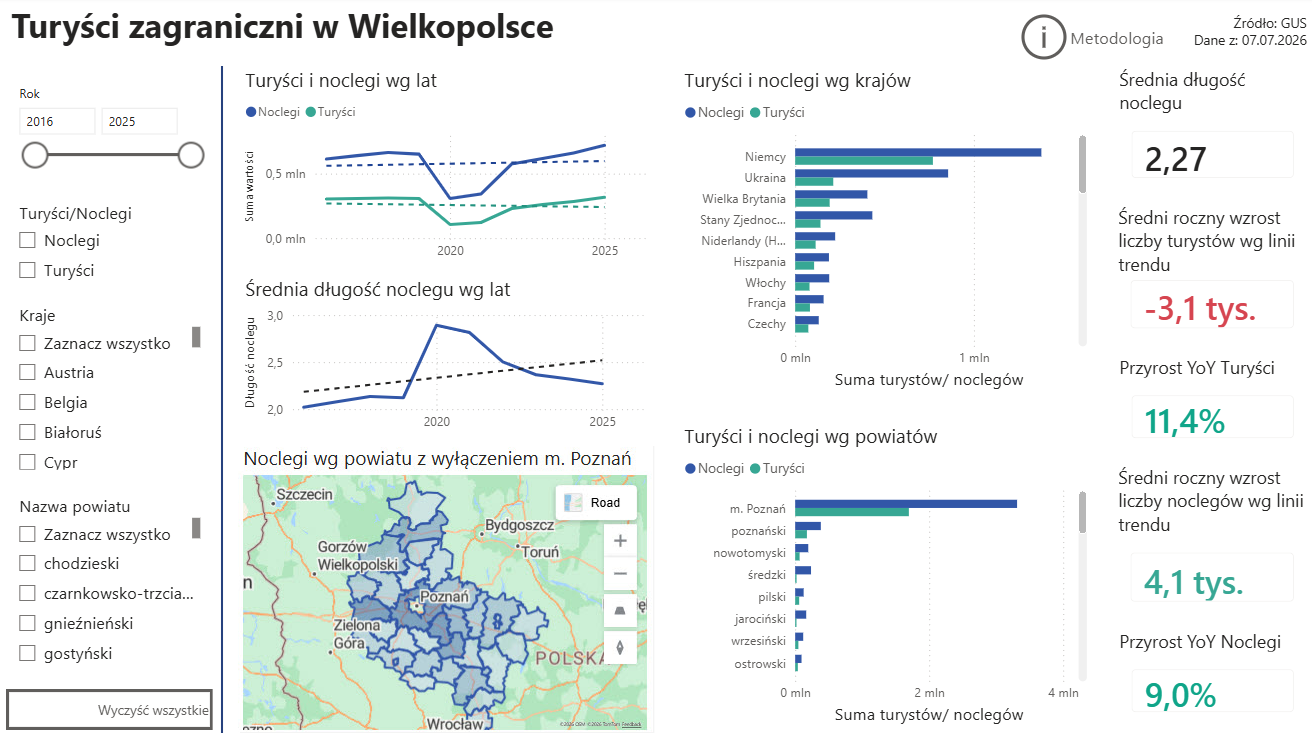

This screenshot's page, from the dashboard's own definition file:
{"tool":"powerbi","page":{"name":"Ogólny","canvas":[1280,720],"ordinal":0},"visuals":[{"type":"lineChart","title":"Turyści i noclegi wg lat","fields":{"Category":["DANE_Wielkopolska.Rok"],"Series":["DANE_Wielkopolska.Turyści/Noclegi - etykieta"],"Y":["Sum(DANE_Wielkopolska.Wartosc)"]},"box":[237.3,67.1,402.7,197.4],"z":0},{"type":"clusteredBarChart","title":"Turyści i noclegi wg krajów","fields":{"Category":["DANE_Wielkopolska.Kraje"],"Series":["DANE_Wielkopolska.Turyści/Noclegi - etykieta"],"Y":["Sum(DANE_Wielkopolska.Wartosc)"]},"box":[664.3,67.1,401.7,320],"z":1000},{"type":"slicer","fields":{"Values":["DANE_Wielkopolska.Rok"]},"box":[9.7,79.8,201.3,99.2],"z":2000},{"type":"shape","box":[211.1,67.1,17.5,652.6],"z":3000},{"type":"slicer","fields":{"Values":["DANE_Wielkopolska.Kraje"]},"box":[9.7,292.8,193.6,172.2],"z":4000},{"type":"clusteredBarChart","title":"Turyści i noclegi wg powiatów","fields":{"Category":["DANE_Wielkopolska.Nazwa powiatu"],"Series":["DANE_Wielkopolska.Turyści/Noclegi - etykieta"],"Y":["Sum(DANE_Wielkopolska.Wartosc)"]},"box":[664.3,413.4,401.7,299.6],"z":5000},{"type":"slicer","fields":{"Values":["DANE_Wielkopolska.Nazwa powiatu"]},"box":[9.7,478.5,193.6,180.9],"z":6000},{"type":"textbox","box":[9.7,0,792.7,59.3],"z":7000},{"type":"slicer","fields":{"Values":["DANE_Wielkopolska.Turyści/Noclegi - etykieta"]},"box":[9.7,193.6,193.6,99.2],"z":8000},{"type":"actionButton","box":[9.7,673.1,201.3,39.9],"z":9000},{"type":"lineChart","title":"Średnia długość noclegu wg lat","fields":{"Category":["DANE_Wielkopolska.Rok"],"Y":["DANE_Wielkopolska.Srednia dlugosc noclegu"]},"box":[237.3,270.4,402.7,160.5],"z":10000},{"type":"cardVisual","title":"Średnia długość noclegu","fields":{"Data":["DANE_Wielkopolska.Srednia dlugosc noclegu"]},"box":[1087.4,67.1,192.6,126.4],"z":11000},{"type":"cardVisual","title":"Przyrost YoY Turyści","fields":{"Data":["DANE_Wielkopolska.Przyrost_YoY"]},"box":[1087.4,347.2,192.6,99.2],"z":13000},{"type":"cardVisual","title":"Przyrost YoY Noclegi","fields":{"Data":["DANE_Wielkopolska.Przyrost_YoY"]},"box":[1087.4,613.7,192.6,99.2],"z":14000},{"type":"textbox","box":[1122.1,10.7,157.6,56.4],"z":15000},{"type":"azureMap","title":"Noclegi wg powiatu z wyłączeniem m. Poznań","fields":{"Category":["DANE_Wielkopolska.wojewodztwo Hierarchy.wojewodztwo","DANE_Wielkopolska.wojewodztwo Hierarchy.Powiat nazwa"],"Size":["Sum(DANE_Wielkopolska.Wartosc)"]},"box":[237.3,436.7,402.7,283],"z":16000},{"type":"actionButton","box":[991.1,10.7,148.8,56.4],"z":17000},{"type":"cardVisual","title":"Średni roczny wzrost liczby turystów wg linii trendu","fields":{"Data":["DANE_Wielkopolska.Regresja_Slope"]},"box":[1086.4,201.3,193.6,138.1],"z":18000},{"type":"cardVisual","title":"Średni roczny wzrost liczby noclegów wg linii trendu","fields":{"Data":["DANE_Wielkopolska.Regresja_Slope"]},"box":[1086.4,454.2,193.6,151.7],"z":19000}]}

Visuals, with their boxes in screenshot pixels (x1, y1, x2, y2), scaled from the page's 1280x720 canvas onto the 1312x733 screenshot:
"Turyści i noclegi wg lat" lineChart: 243/68/656/269
"Turyści i noclegi wg krajów" clusteredBarChart: 681/68/1093/394
slicer - DANE_Wielkopolska.Rok: 10/81/216/182
shape: 216/68/234/732
slicer - DANE_Wielkopolska.Kraje: 10/298/208/473
"Turyści i noclegi wg powiatów" clusteredBarChart: 681/421/1093/726
slicer - DANE_Wielkopolska.Nazwa powiatu: 10/487/208/671
textbox: 10/0/822/60
slicer - DANE_Wielkopolska.Turyści/Noclegi - etykieta: 10/197/208/298
actionButton: 10/685/216/726
"Średnia długość noclegu wg lat" lineChart: 243/275/656/439
"Średnia długość noclegu" cardVisual: 1115/68/1311/197
"Przyrost YoY Turyści" cardVisual: 1115/353/1311/454
"Przyrost YoY Noclegi" cardVisual: 1115/625/1311/726
textbox: 1150/11/1311/68
"Noclegi wg powiatu z wyłączeniem m. Poznań" azureMap: 243/445/656/732
actionButton: 1016/11/1168/68
"Średni roczny wzrost liczby turystów wg linii trendu" cardVisual: 1114/205/1311/346
"Średni roczny wzrost liczby noclegów wg linii trendu" cardVisual: 1114/462/1311/617
